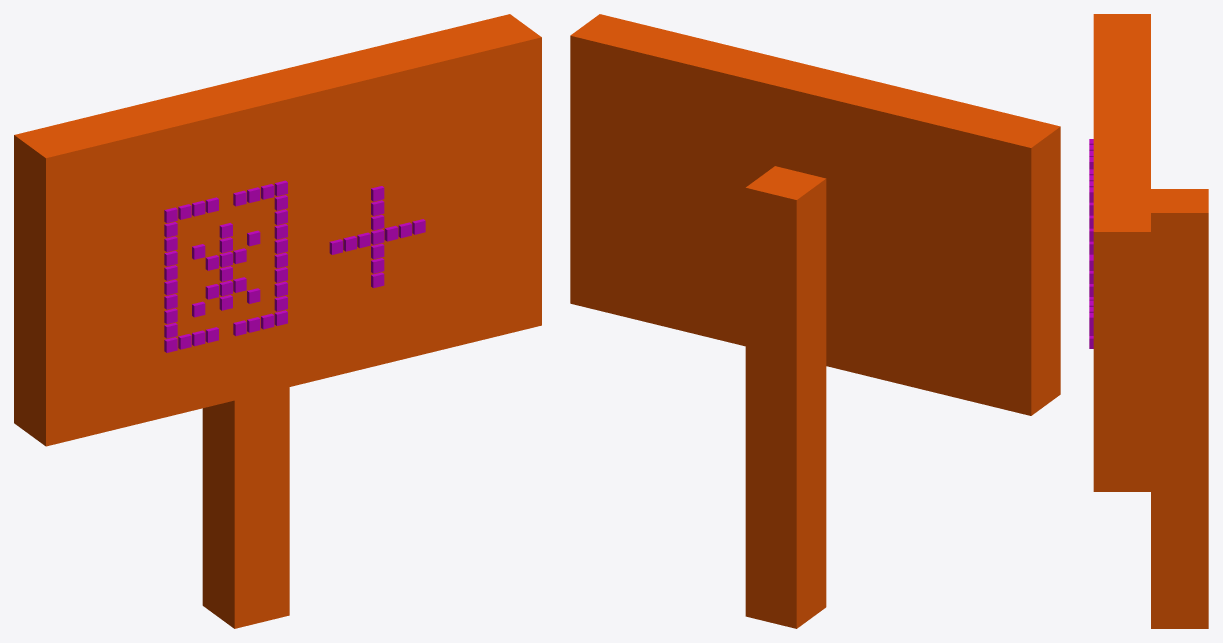
Rendered from AppendConditionDamageP.fbx.
3 renders of one model, left to right at view 1: azimuth 30°, elevation 25°; view 2: azimuth 150°, elevation 25°; view 3: azimuth 270°, elevation 25°, orthographic. The views are drawn at different scales.
Parts seen in each view (by area): view 1: 板, 杭; view 2: 板, 杭; view 3: 板, 杭.
Boxes of the visible parts, x1,y1,x2,y2 form: 板: [14, 14, 541, 446]; 杭: [202, 387, 289, 628]; 板: [570, 14, 1060, 415]; 杭: [745, 166, 826, 628]; 板: [1093, 14, 1150, 491]; 杭: [1151, 189, 1208, 628].
Size of the model in its own units: 180 by 190 by 41.5.
